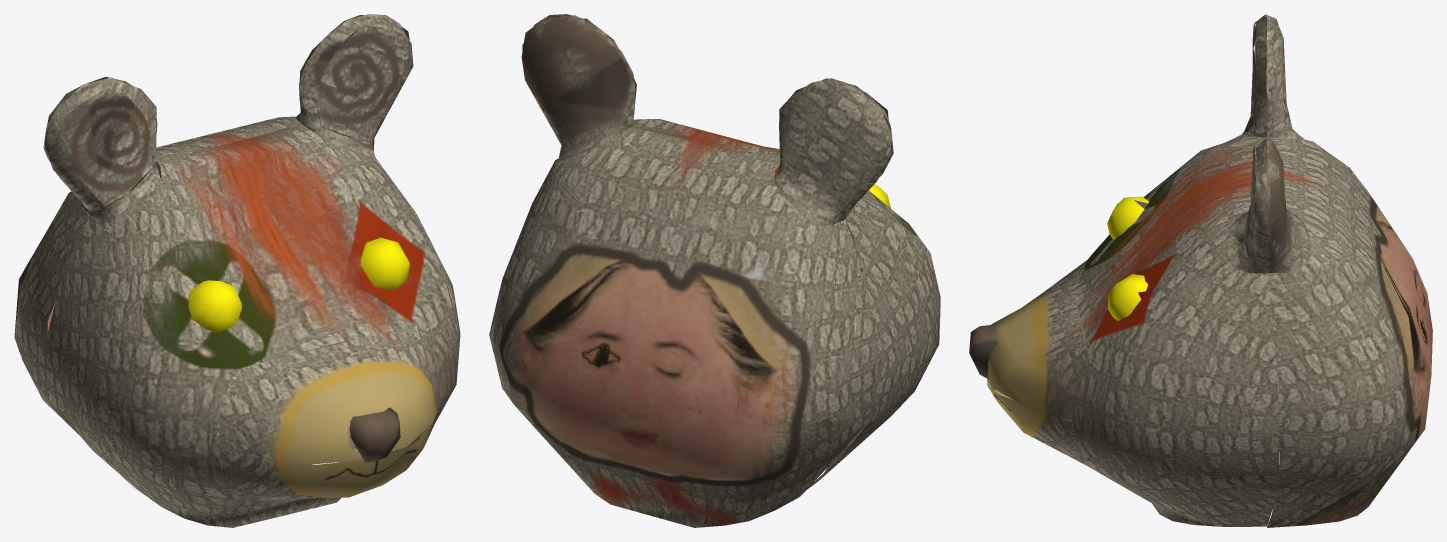
The model's file is bearhead.fbx.
3 renders of one model, left to right at view 1: azimuth 30°, elevation 25°; view 2: azimuth 150°, elevation 25°; view 3: azimuth 270°, elevation 25°, orthographic. The views are drawn at different scales.
Parts seen in each view (by area): view 1: TeddyBear.001; view 2: TeddyBear.001; view 3: TeddyBear.001.
Boxes of the visible parts, x1=… form: TeddyBear.001: x1=14, y1=14, x2=460, y2=527; TeddyBear.001: x1=489, y1=14, x2=940, y2=527; TeddyBear.001: x1=969, y1=14, x2=1432, y2=527.
Bounding box in the file's own units: 3677 × 4088 × 4194.
2 materials, 1 textured.
